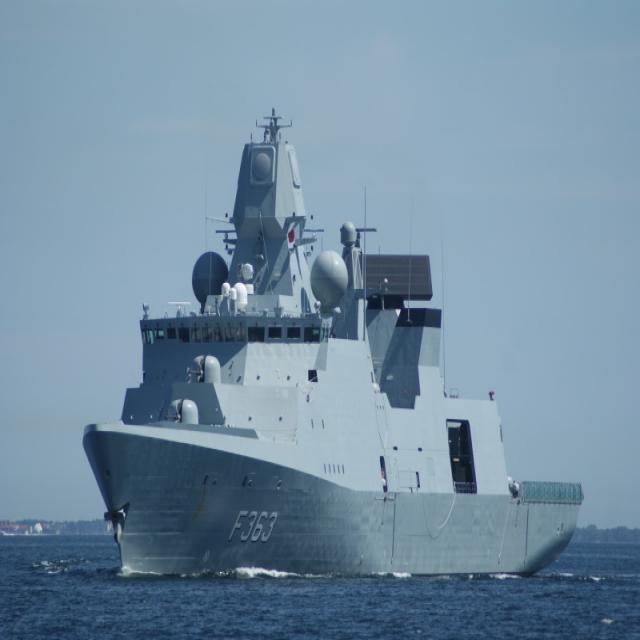Fragata: (78, 103, 588, 580)
